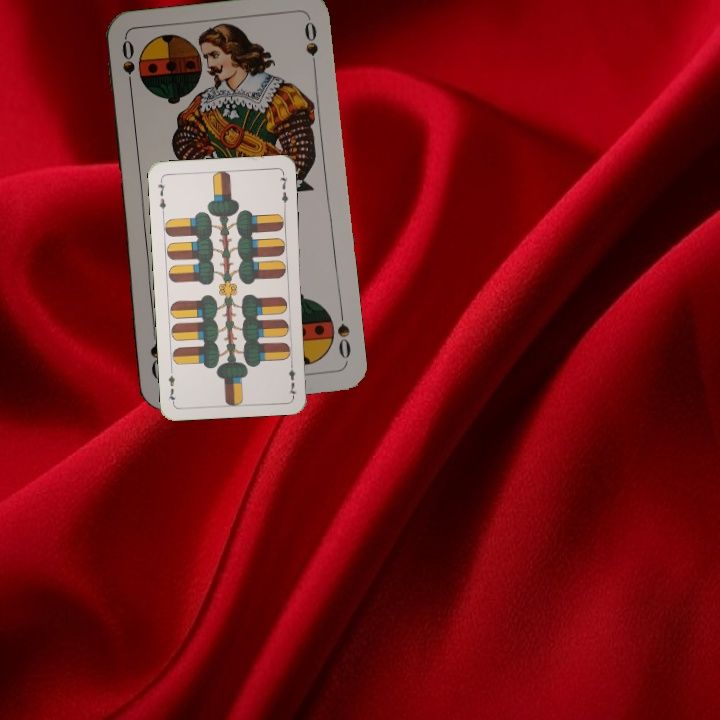E7: (154, 176, 169, 216), (285, 358, 299, 398)
SO: (118, 36, 138, 95), (333, 305, 353, 364)
